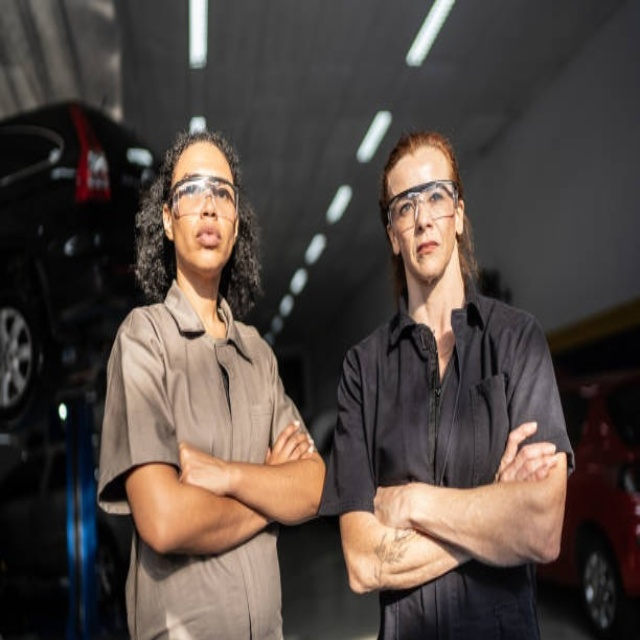Gafas: (386, 180, 460, 232), (169, 174, 239, 223)
Sin_guantes: (496, 418, 562, 486), (267, 416, 316, 466)
Sin_mascara: (411, 235, 443, 269), (188, 224, 223, 253)
